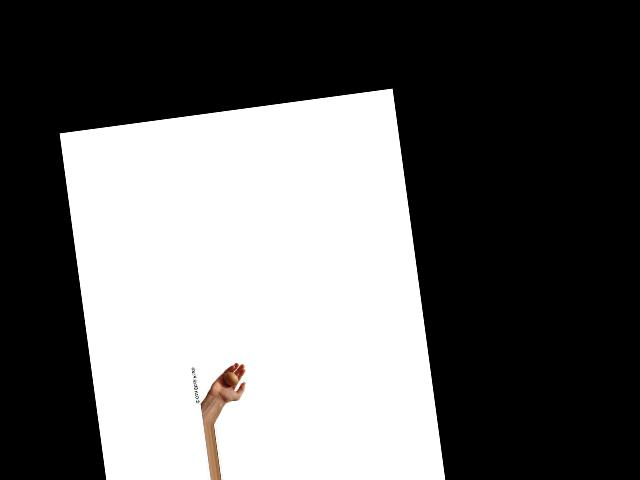egg: (223, 370, 238, 385)
